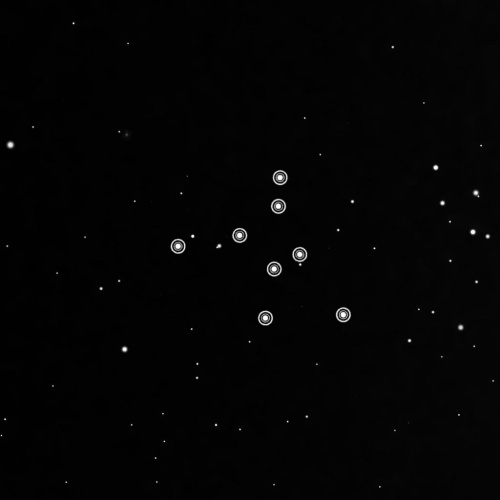hercules: (166, 167, 359, 330)
